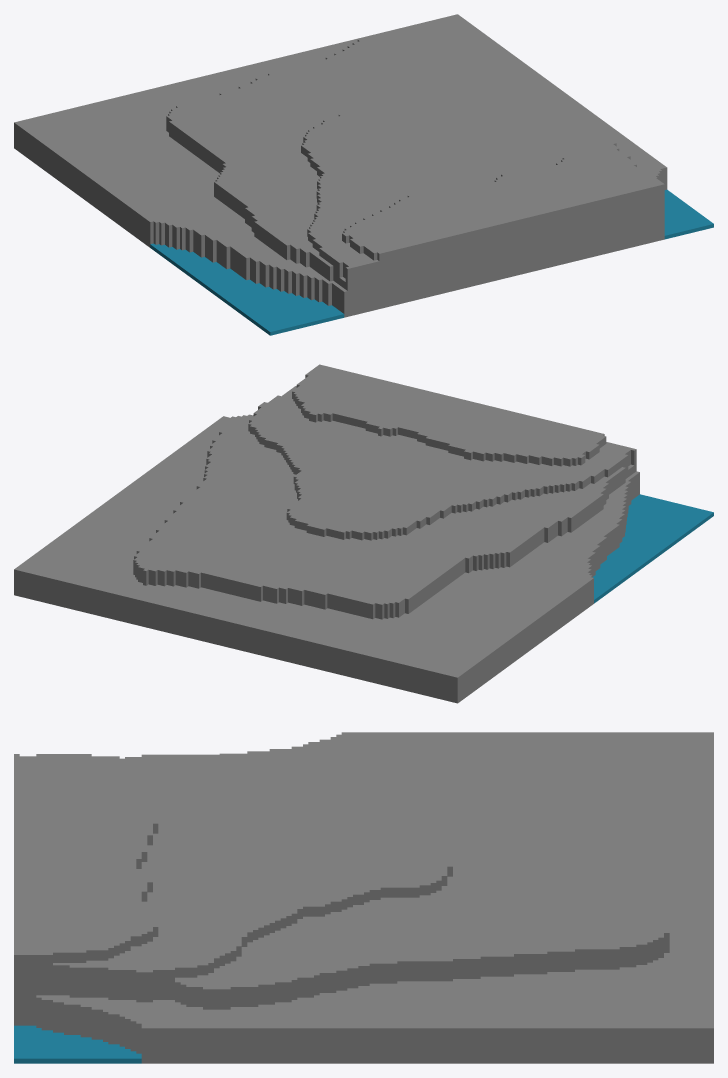
File: Main Island 03.obj
The picture shows the model from 3 angles, top to bottom: view 1: azimuth 30°, elevation 25°; view 2: azimuth 150°, elevation 25°; view 3: azimuth 270°, elevation 25°; orthographic projection. The views are drawn at different scales.
Visible parts, largest first — view 1: Light House-2; view 2: Light House-2; view 3: Light House-2.
Boxes of the visible parts, x1,y1,x2,y2 form: Light House-2: (14,14,713,335); Light House-2: (14,364,713,703); Light House-2: (14,732,713,1063).
Bounding box in the file's own units: 126 × 15 × 126.
